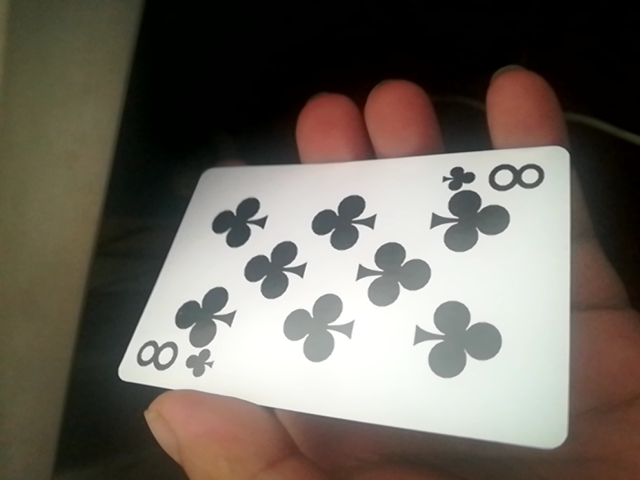mh 8: (112, 138, 581, 455)
